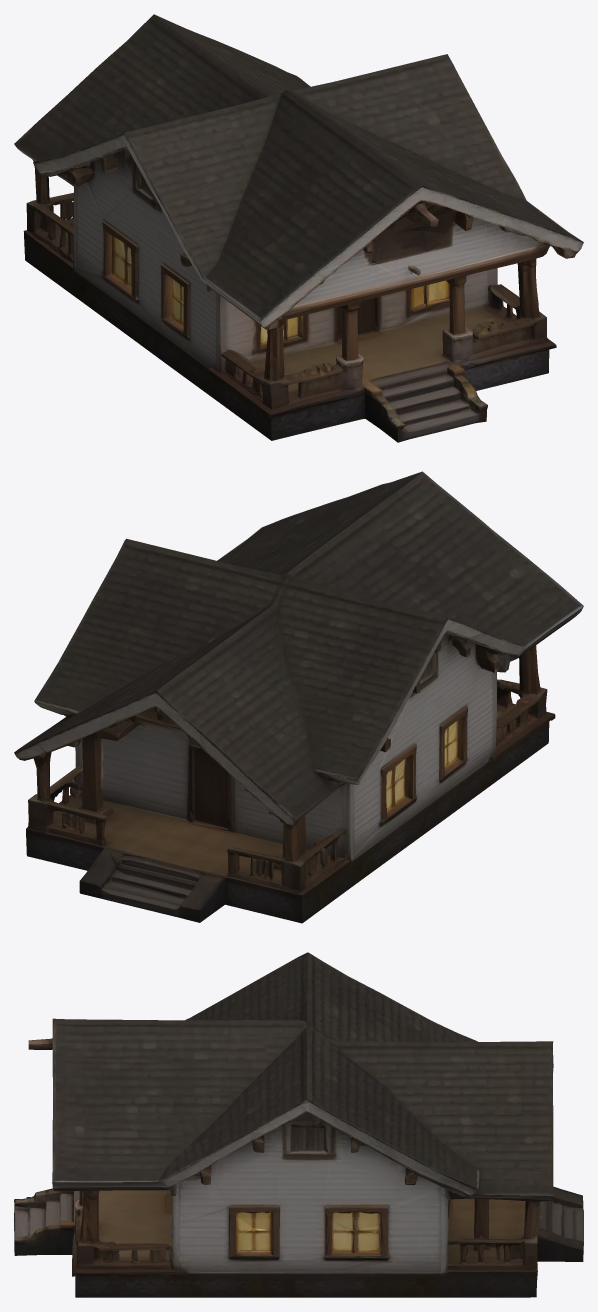
Rendered from house_porch.glb.
The picture shows the model from 3 angles, top to bottom: view 1: azimuth 30°, elevation 25°; view 2: azimuth 150°, elevation 25°; view 3: azimuth 270°, elevation 25°; orthographic projection. The views are drawn at different scales.
Visible parts, largest first — view 1: geometry_0; view 2: geometry_0; view 3: geometry_0.
Part boxes in pixels (bbox=[...]): geometry_0: bbox=[14, 14, 583, 442]; geometry_0: bbox=[14, 471, 583, 923]; geometry_0: bbox=[14, 952, 583, 1297].
Bounding box in the file's own units: 0.6148 × 0.4203 × 1.
Materials: 1 (1 with a texture image).
